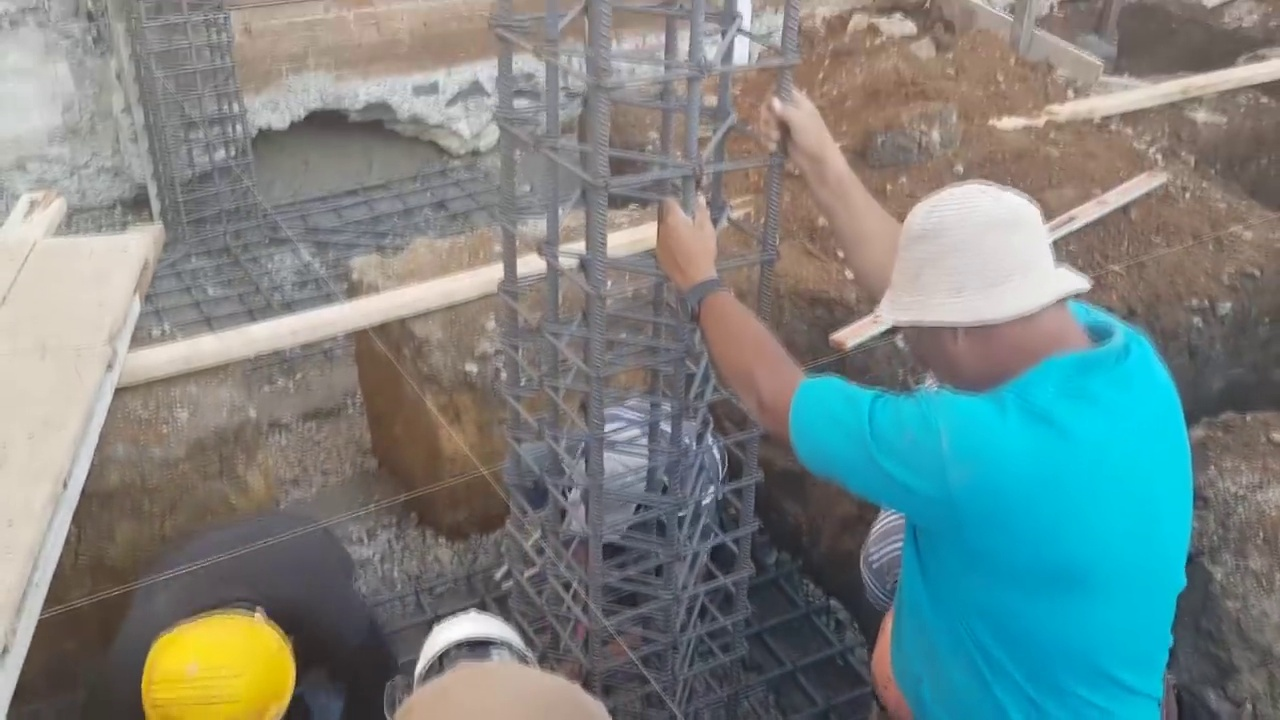helmet: (132, 620, 290, 718)
helmet-off: (867, 189, 1116, 390), (571, 424, 668, 538)
helmet-on: (127, 596, 309, 719), (405, 614, 539, 701)
person: (651, 91, 1197, 720), (100, 510, 398, 714), (494, 371, 738, 569), (387, 590, 620, 716)
